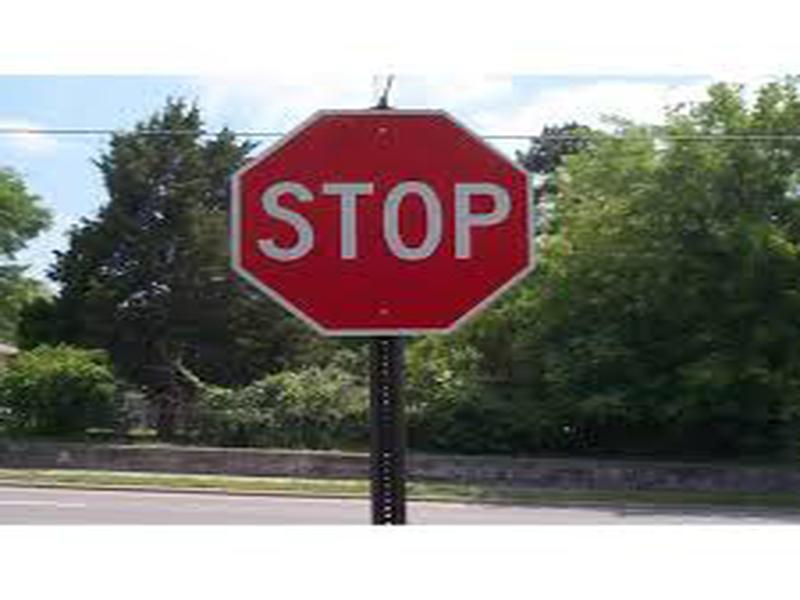stop: (225, 98, 542, 335)
